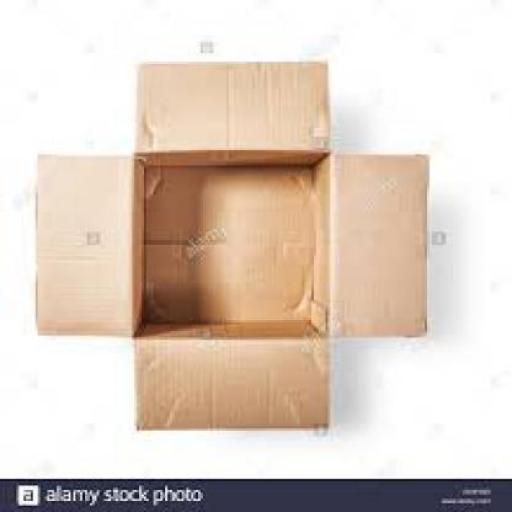cardboard: (30, 57, 424, 428), (139, 161, 311, 324)
